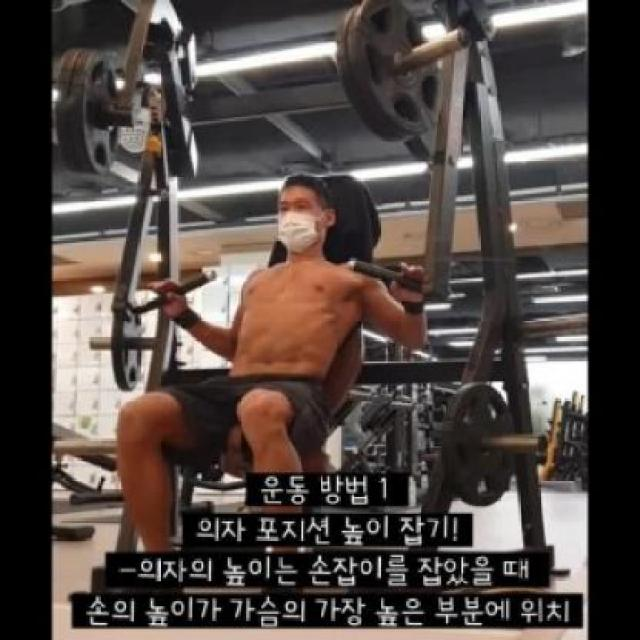Chest Press machine: (50, 0, 555, 592)
